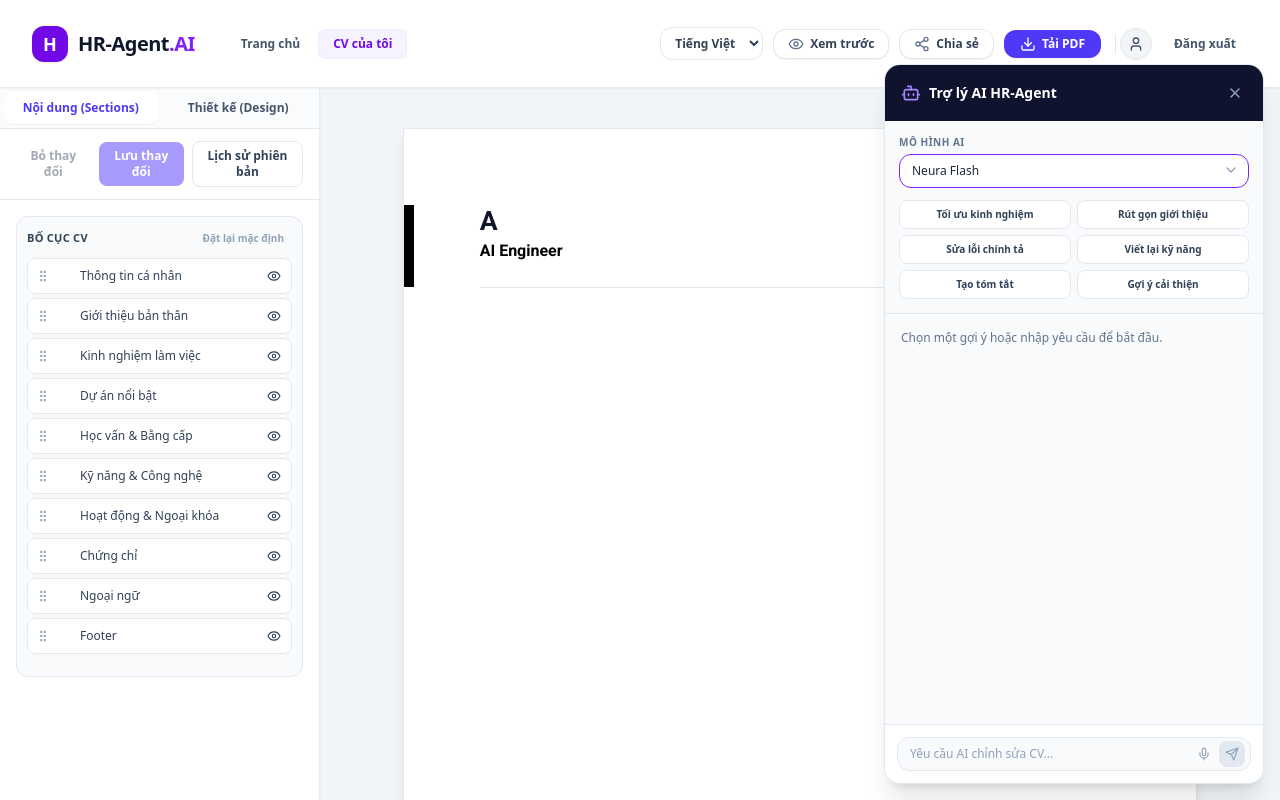
Test: nút "Xem trước" trên header trình sửa › không chặn bởi hộp thoại "Thay đổi chưa lưu"
The width and height of the screenshot is (1280, 800).
Double-click the button with test id "cv-block-header" at point(521, 250), box [480,205,1120,288]
(page scrolled)
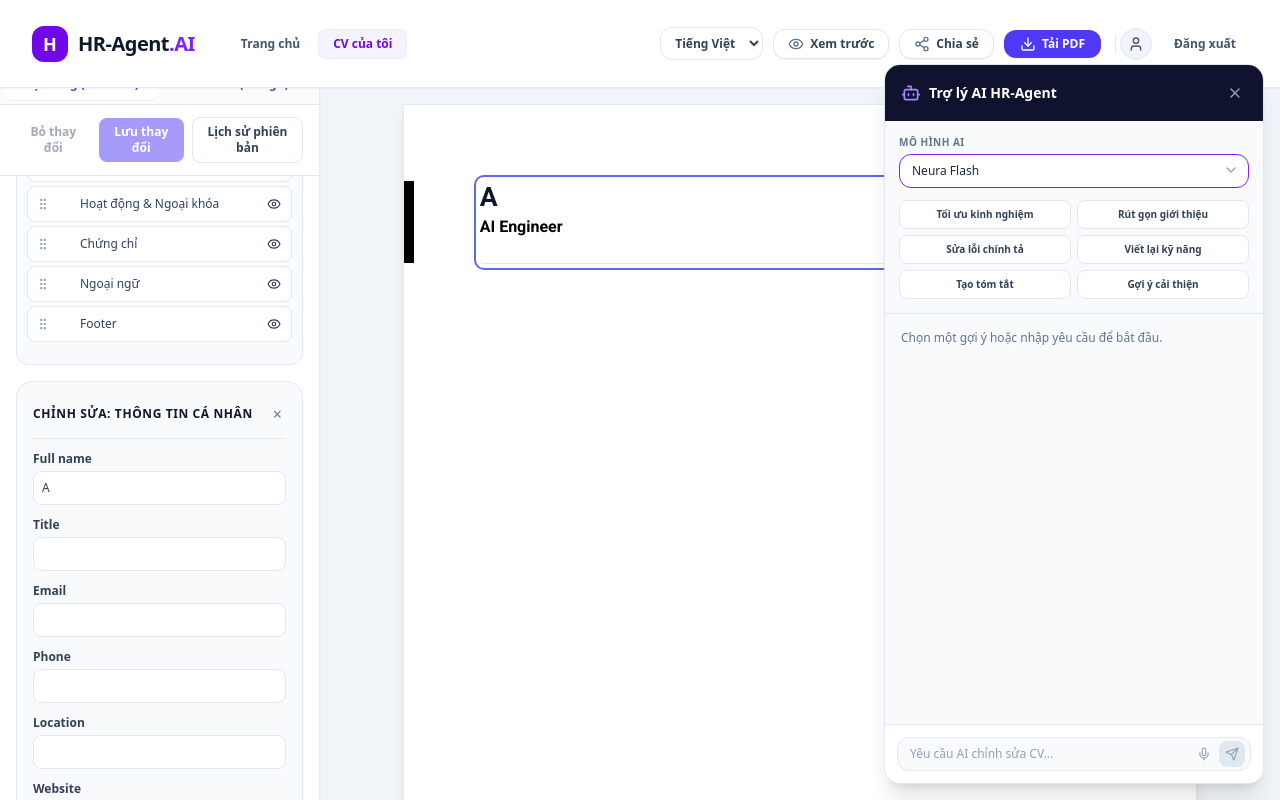
Replace the text in the field labelled "Full name" with "Nguyễn Văn Bản Nháp". click: point(160, 488)
box: [33,471,286,505]
(page scrolled)
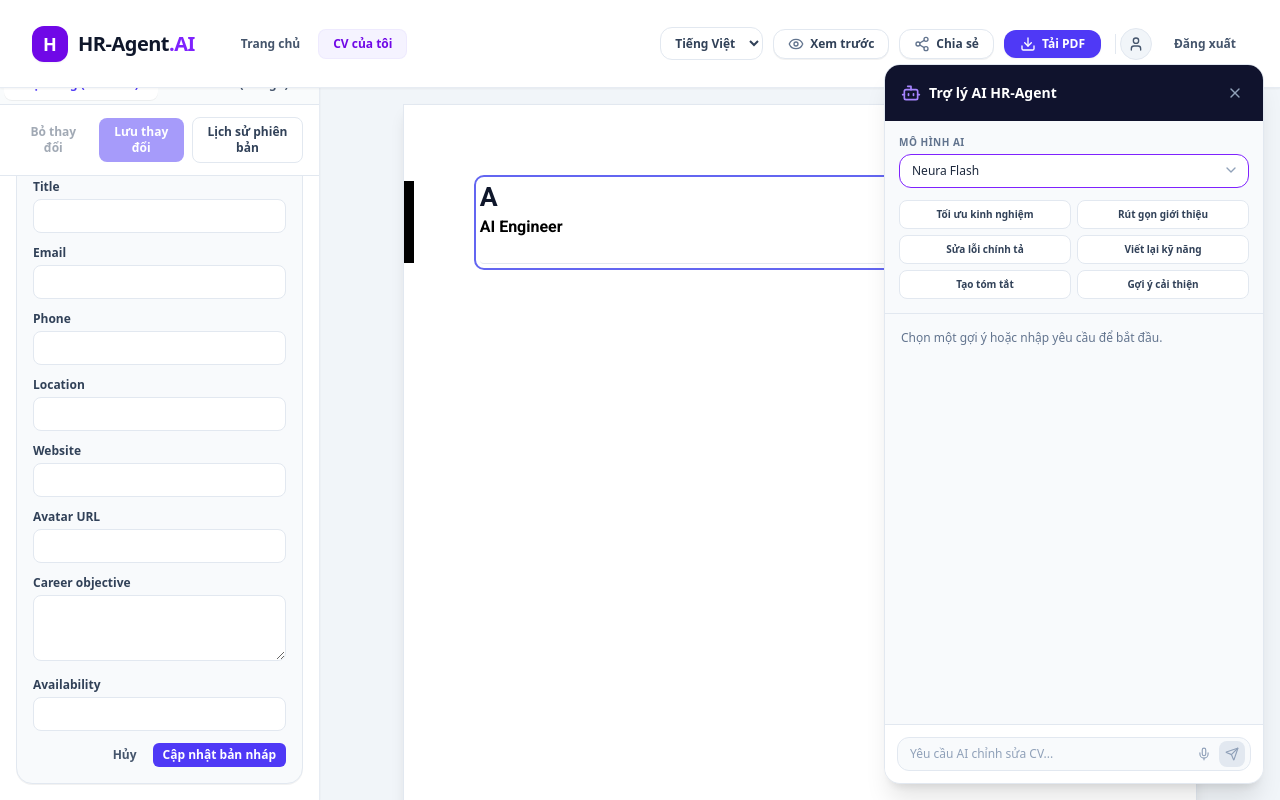
Click the button "Cập nhật bản nháp". click: point(219, 755)
box: [153,743,286,767]
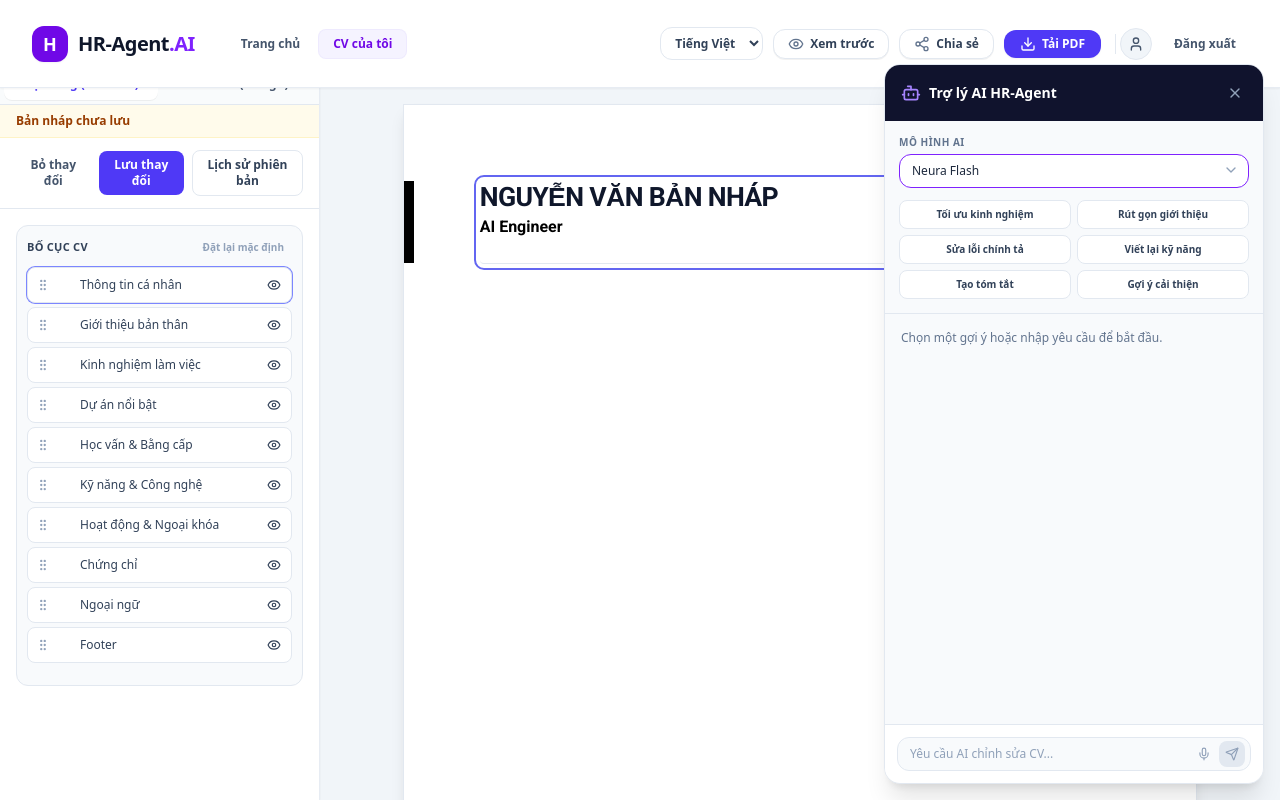
Click the button "Xem trước". click: point(831, 44)
box: [773,28,889,58]
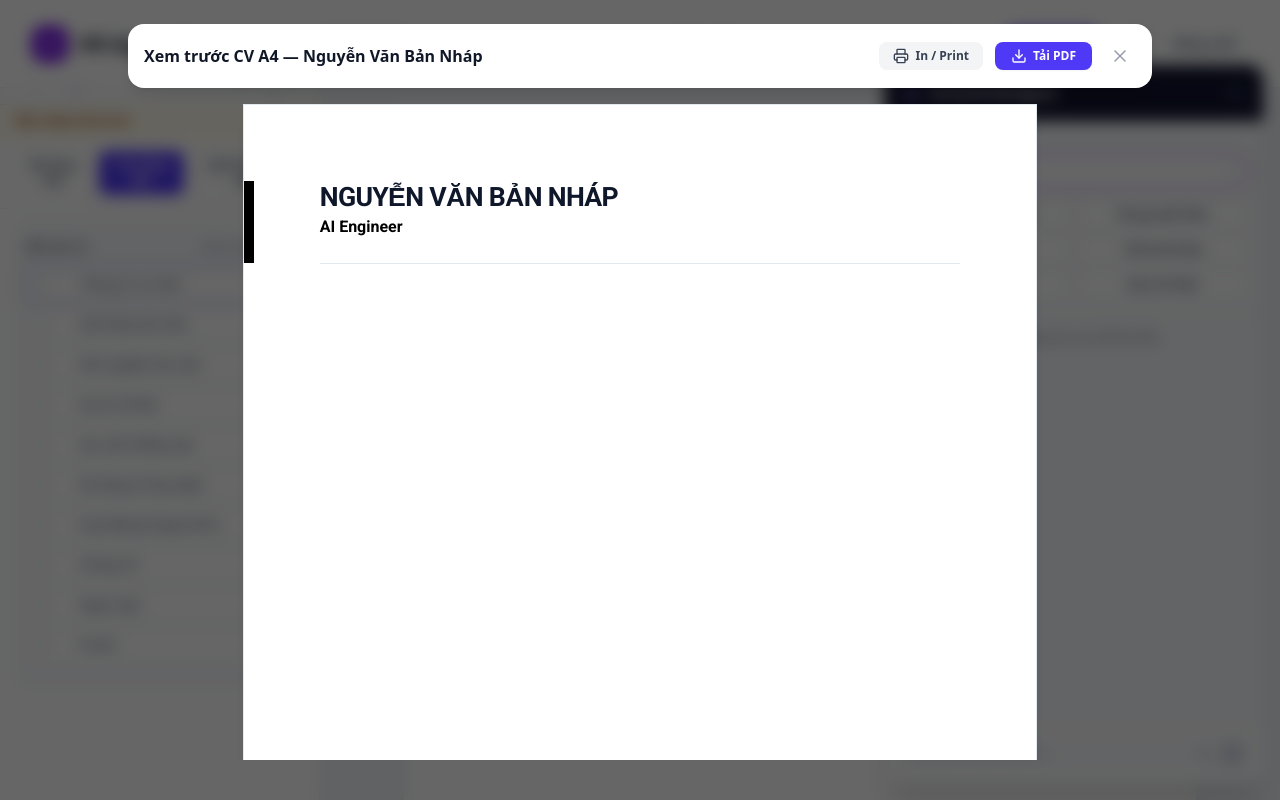
Check: the dialog "Xem trước CV" is shown
